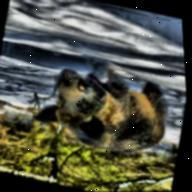boar: (23, 47, 191, 173)
